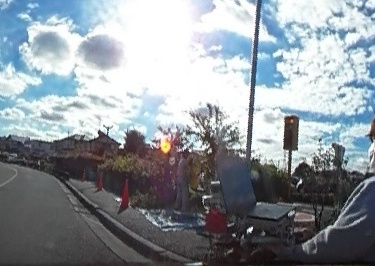person: (300, 102, 375, 266), (174, 150, 189, 211)
